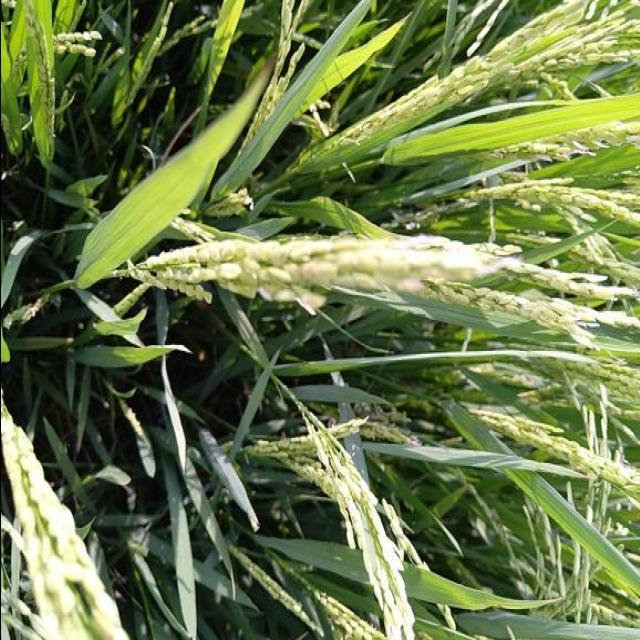Leaf Blight: (205, 58, 273, 162)
